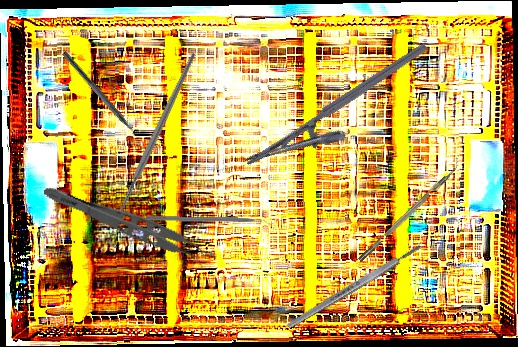Chopper: (353, 157, 465, 262), (56, 50, 142, 145), (145, 215, 273, 230)
Hook Surgical: (47, 51, 261, 250)
Needle Holder: (243, 41, 445, 192)
Scalpel Handle: (285, 242, 424, 331)
Tissue Forceps: (37, 181, 212, 271)
